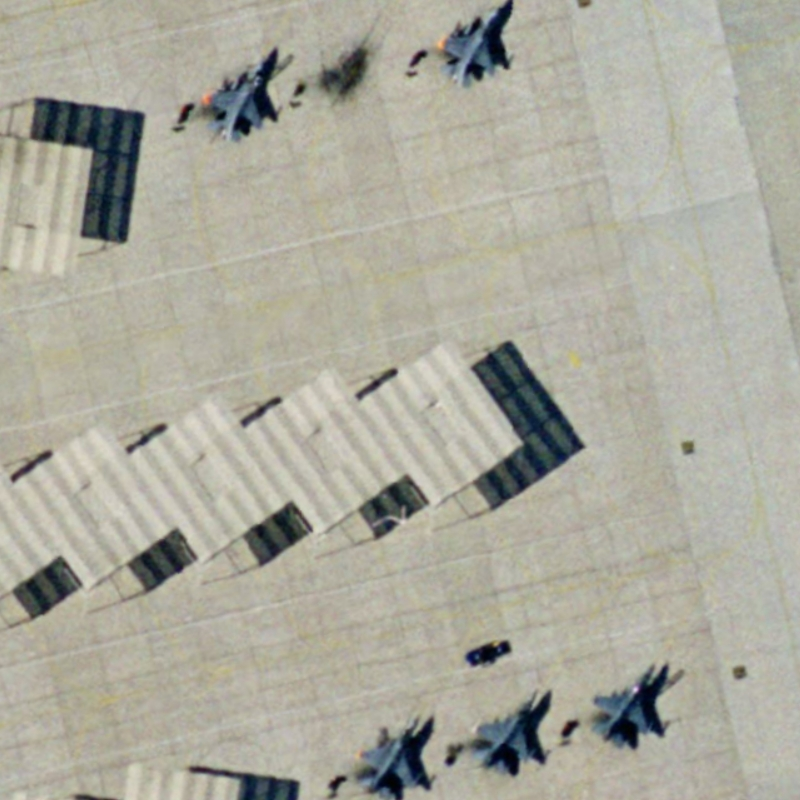A5: (466, 683, 554, 783), (199, 46, 282, 149), (348, 701, 432, 800), (584, 655, 663, 755), (425, 1, 511, 92)
